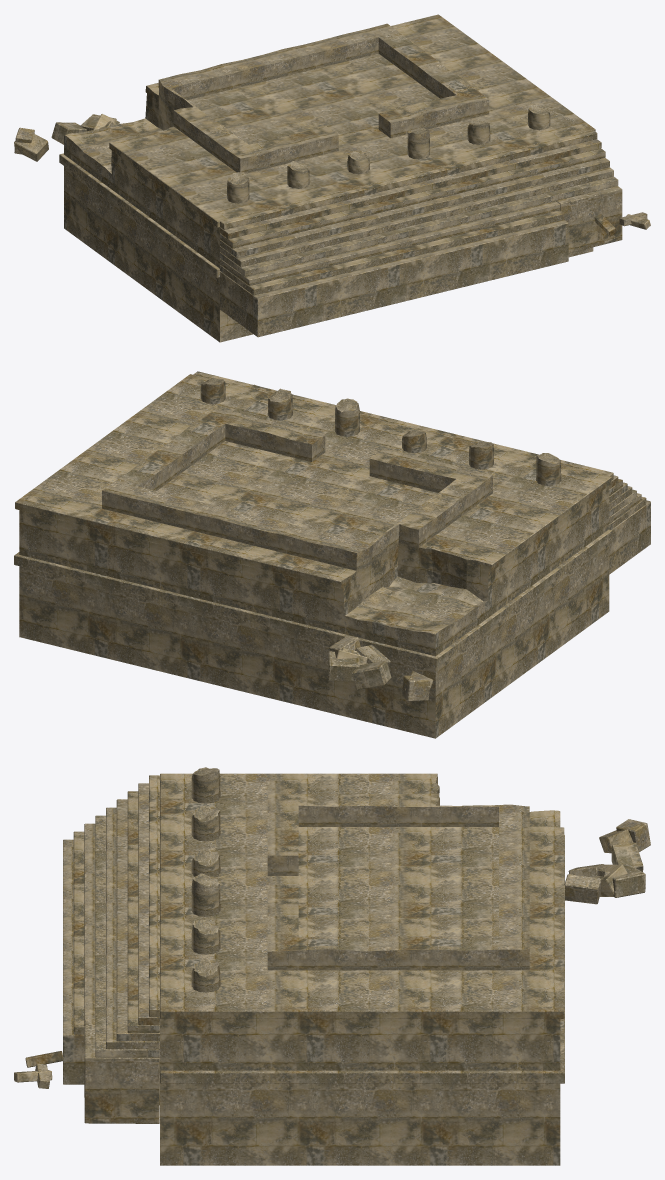
File: temple_podium.glb
The picture shows the model from 3 angles, top to bottom: view 1: azimuth 30°, elevation 25°; view 2: azimuth 150°, elevation 25°; view 3: azimuth 270°, elevation 25°; orthographic projection. The views are drawn at different scales.
Visible parts, largest first — view 1: temple_podium; view 2: temple_podium; view 3: temple_podium.
Part boxes in pixels (x1,y1,x2,y2): temple_podium: [14, 14, 650, 342]; temple_podium: [14, 371, 650, 738]; temple_podium: [14, 767, 650, 1165].
Size of the model in its own units: 19.46 by 6.78 by 20.67.
1 material, 1 textured.
